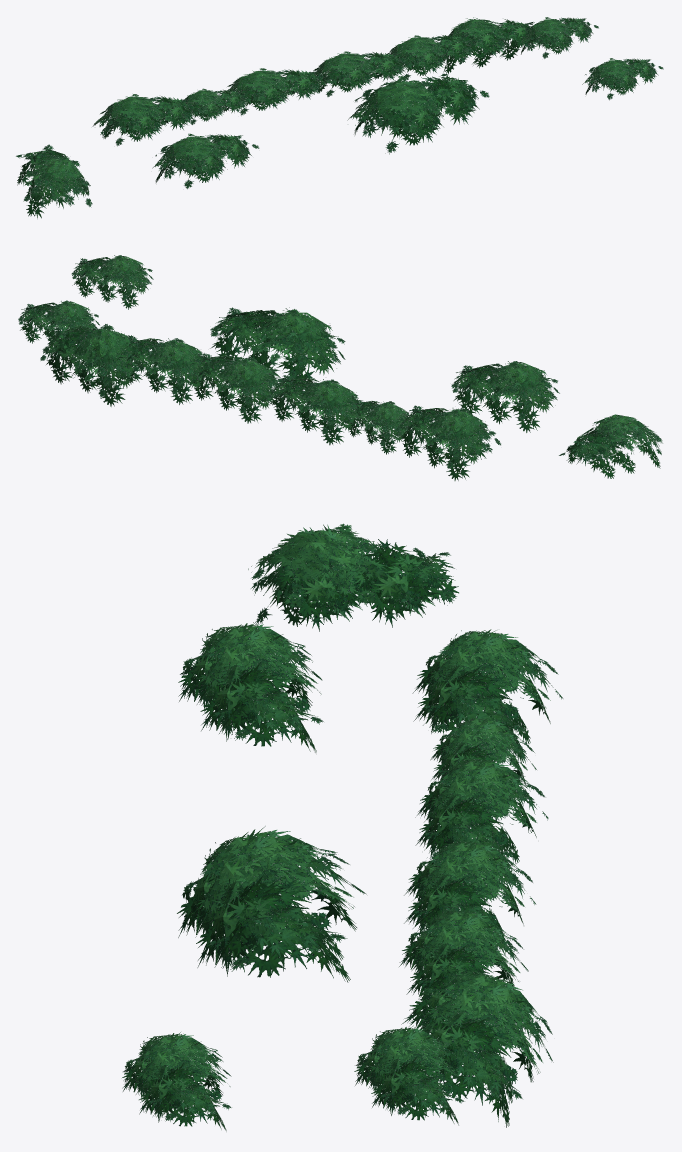
Rendered from Area_06_33.fbx.
3 views of the same model, one above another, from view 1: azimuth 30°, elevation 25°; view 2: azimuth 150°, elevation 25°; view 3: azimuth 270°, elevation 25° (orthographic). The views are drawn at different scales.
Parts seen in each view (by area): view 1: Area_06_33; view 2: Area_06_33; view 3: Area_06_33.
Part boxes in pixels (x1,y1,x2,y2): Area_06_33: (16, 17, 663, 218); Area_06_33: (18, 255, 662, 480); Area_06_33: (122, 523, 563, 1131).
Size of the model in its own units: 6876 by 837 by 2217.
